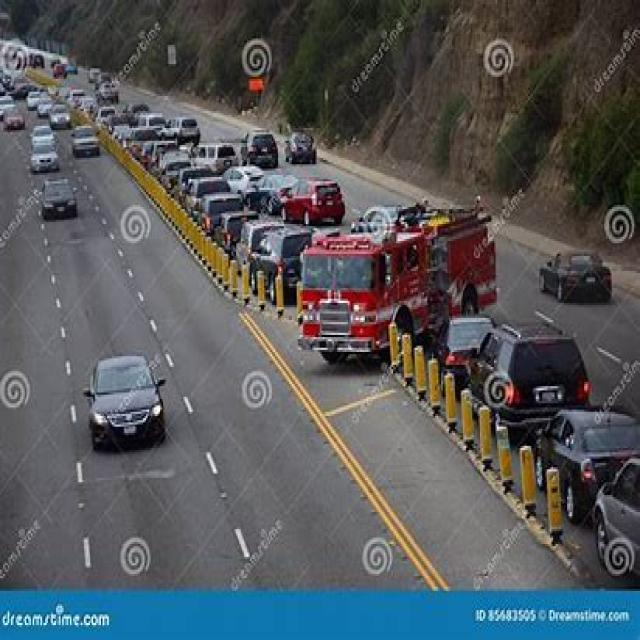Fire-engine: (295, 194, 497, 367)
